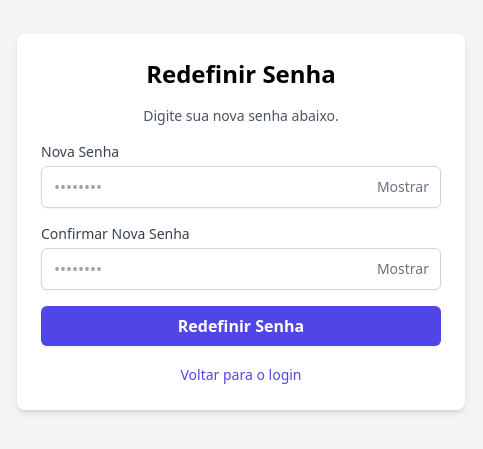
Test: Página ResetPasswordPage › deve validar se as senhas não coincidem
The image size is (483, 449).
Type "senha123" into the password field labelled "Nova Senha" at (241, 187), box [41,166,441,208]
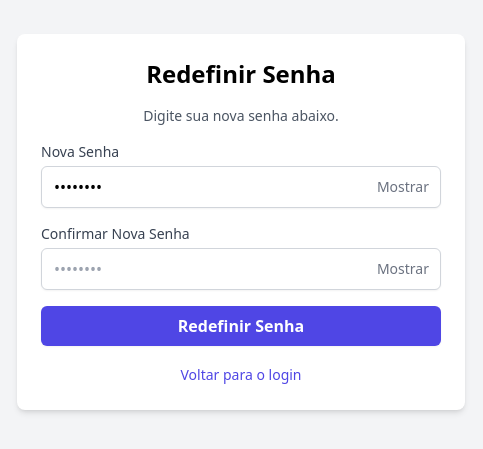
Type "outrasenha" into the password field labelled "Confirmar Nova Senha" at (241, 269), box [41,248,441,290]
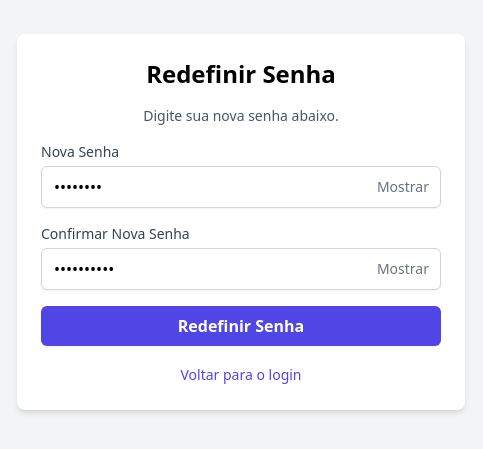
Click the button "Redefinir Senha" at (241, 326), box [41,306,441,346]
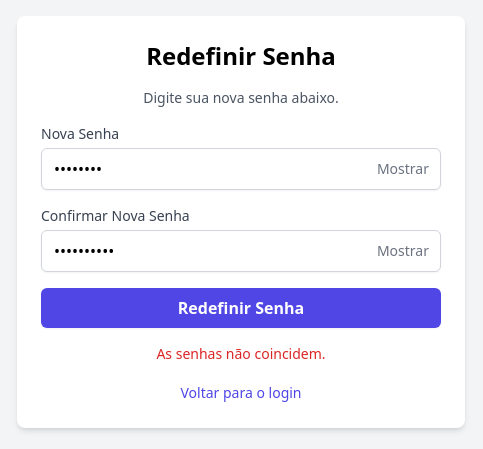
Expected: the text "As senhas não coincidem." is shown, [156,344,326,363]
